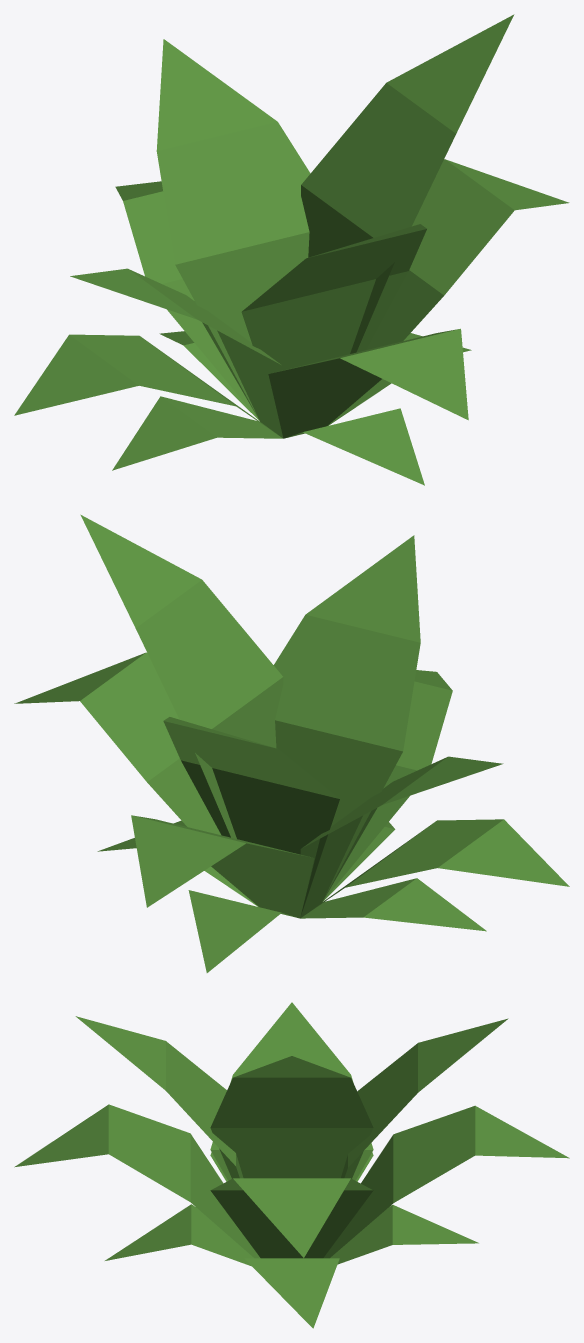
File: bush.glb
The picture shows the model from 3 angles, top to bottom: view 1: azimuth 30°, elevation 25°; view 2: azimuth 150°, elevation 25°; view 3: azimuth 270°, elevation 25°; orthographic projection. The views are drawn at different scales.
Visible parts, largest first — view 1: plant_bushDetailed; view 2: plant_bushDetailed; view 3: plant_bushDetailed.
Boxes of the visible parts, x1,y1,x2,y2 form: plant_bushDetailed: [14, 14, 569, 485]; plant_bushDetailed: [14, 514, 569, 972]; plant_bushDetailed: [14, 1002, 569, 1328].
Size of the model in its own units: 1 by 0.5981 by 1.
